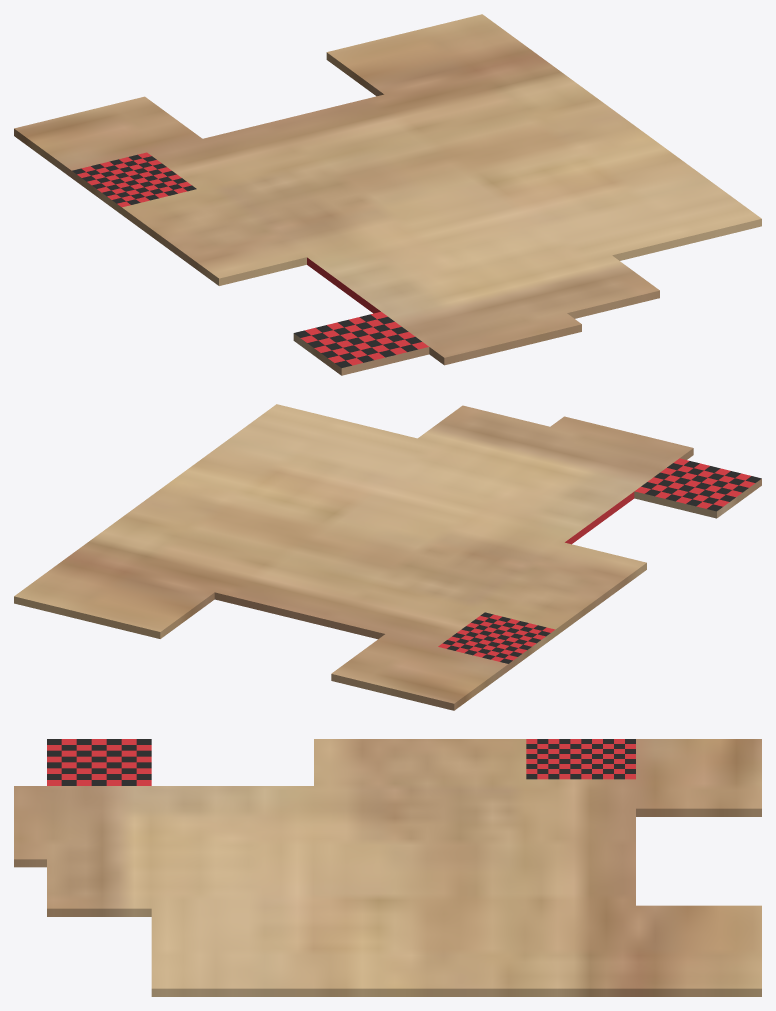
Rendered from lante lt 2.fbx.
The picture shows the model from 3 angles, top to bottom: view 1: azimuth 30°, elevation 25°; view 2: azimuth 150°, elevation 25°; view 3: azimuth 270°, elevation 25°; orthographic projection. The views are drawn at different scales.
Parts seen in each view (by area): view 1: Plane.001; view 2: Plane.001; view 3: Plane.001.
Boxes of the visible parts, left/top/right/bottom form: Plane.001: left=14, top=14, right=761, bottom=375; Plane.001: left=14, top=404, right=761, bottom=710; Plane.001: left=14, top=739, right=761, bottom=996.
Size of the model in its own units: 2008 by 31 by 2544.
3 materials, 1 textured.
